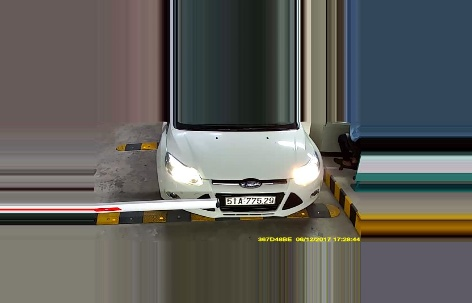plate: (224, 193, 275, 205)
